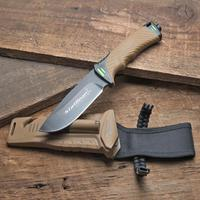knife: (36, 21, 161, 140)
